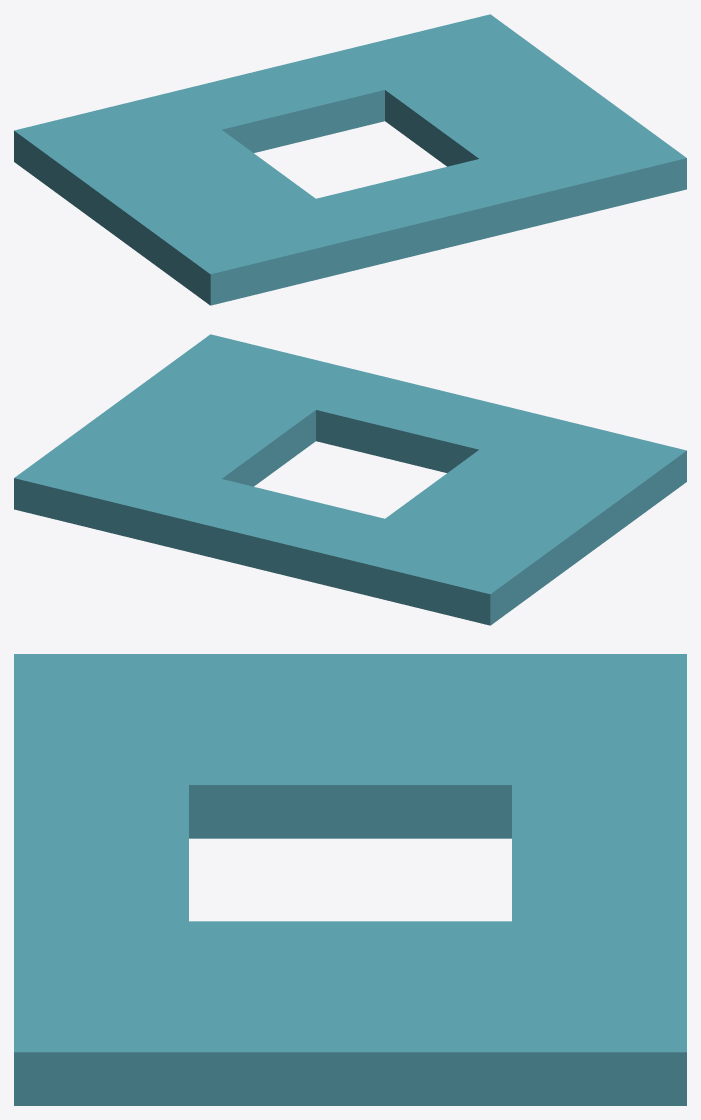
Rendered from CH_LOFT_HATCHTILE.fbx.
3 renders of one model, top to bottom at view 1: azimuth 30°, elevation 25°; view 2: azimuth 150°, elevation 25°; view 3: azimuth 270°, elevation 25°, orthographic. The views are drawn at different scales.
Visible parts, largest first — view 1: CH_LOFT_HATCHTILE_LOD0; view 2: CH_LOFT_HATCHTILE_LOD0; view 3: CH_LOFT_HATCHTILE_LOD0.
Boxes of the visible parts, <box> form: CH_LOFT_HATCHTILE_LOD0: <box>14,14,686,305</box>; CH_LOFT_HATCHTILE_LOD0: <box>14,334,686,625</box>; CH_LOFT_HATCHTILE_LOD0: <box>14,654,686,1105</box>.
Size of what is drawn, in the model's own units: 3.5 by 0.22 by 2.5.
